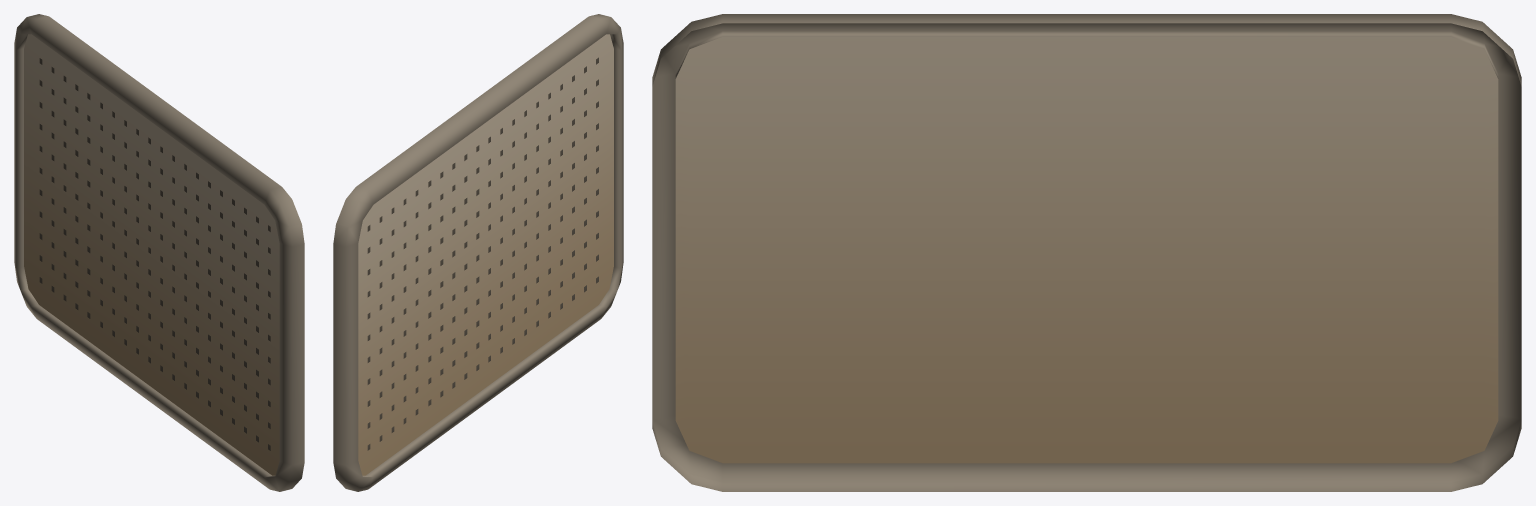
Rendered from WallStandRounded_Long.fbx.
The picture shows the model from 3 angles, left to right: view 1: azimuth 30°, elevation 25°; view 2: azimuth 150°, elevation 25°; view 3: azimuth 270°, elevation 25°; orthographic projection. The views are drawn at different scales.
Parts seen in each view (by area): view 1: WallStandRounded_Long, WallStandRounded_Long_Holes; view 2: WallStandRounded_Long, WallStandRounded_Long_Holes; view 3: WallStandRounded_Long.
Boxes of the visible parts, box(x1,y1,x2,y2) form: WallStandRounded_Long: box(14, 14, 304, 491); WallStandRounded_Long_Holes: box(39, 58, 270, 450); WallStandRounded_Long: box(333, 14, 623, 491); WallStandRounded_Long_Holes: box(367, 57, 598, 450); WallStandRounded_Long: box(652, 14, 1521, 491).
Size of the model in its own units: 16.97 by 275 by 462.
